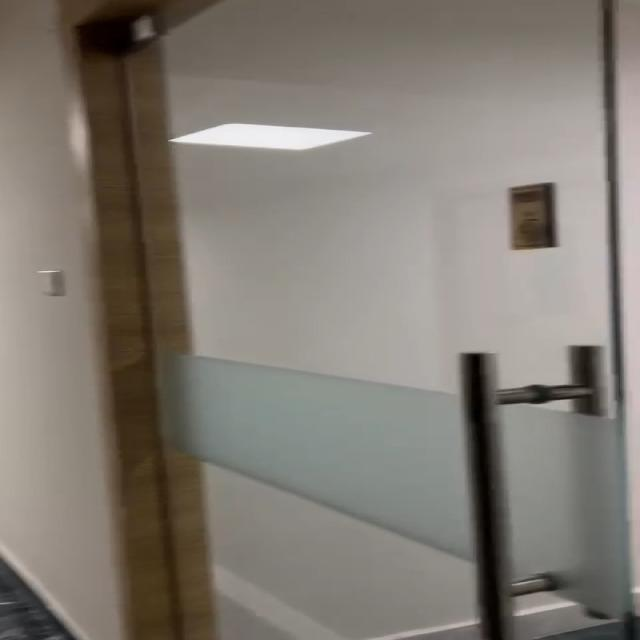door: (86, 0, 630, 640)
